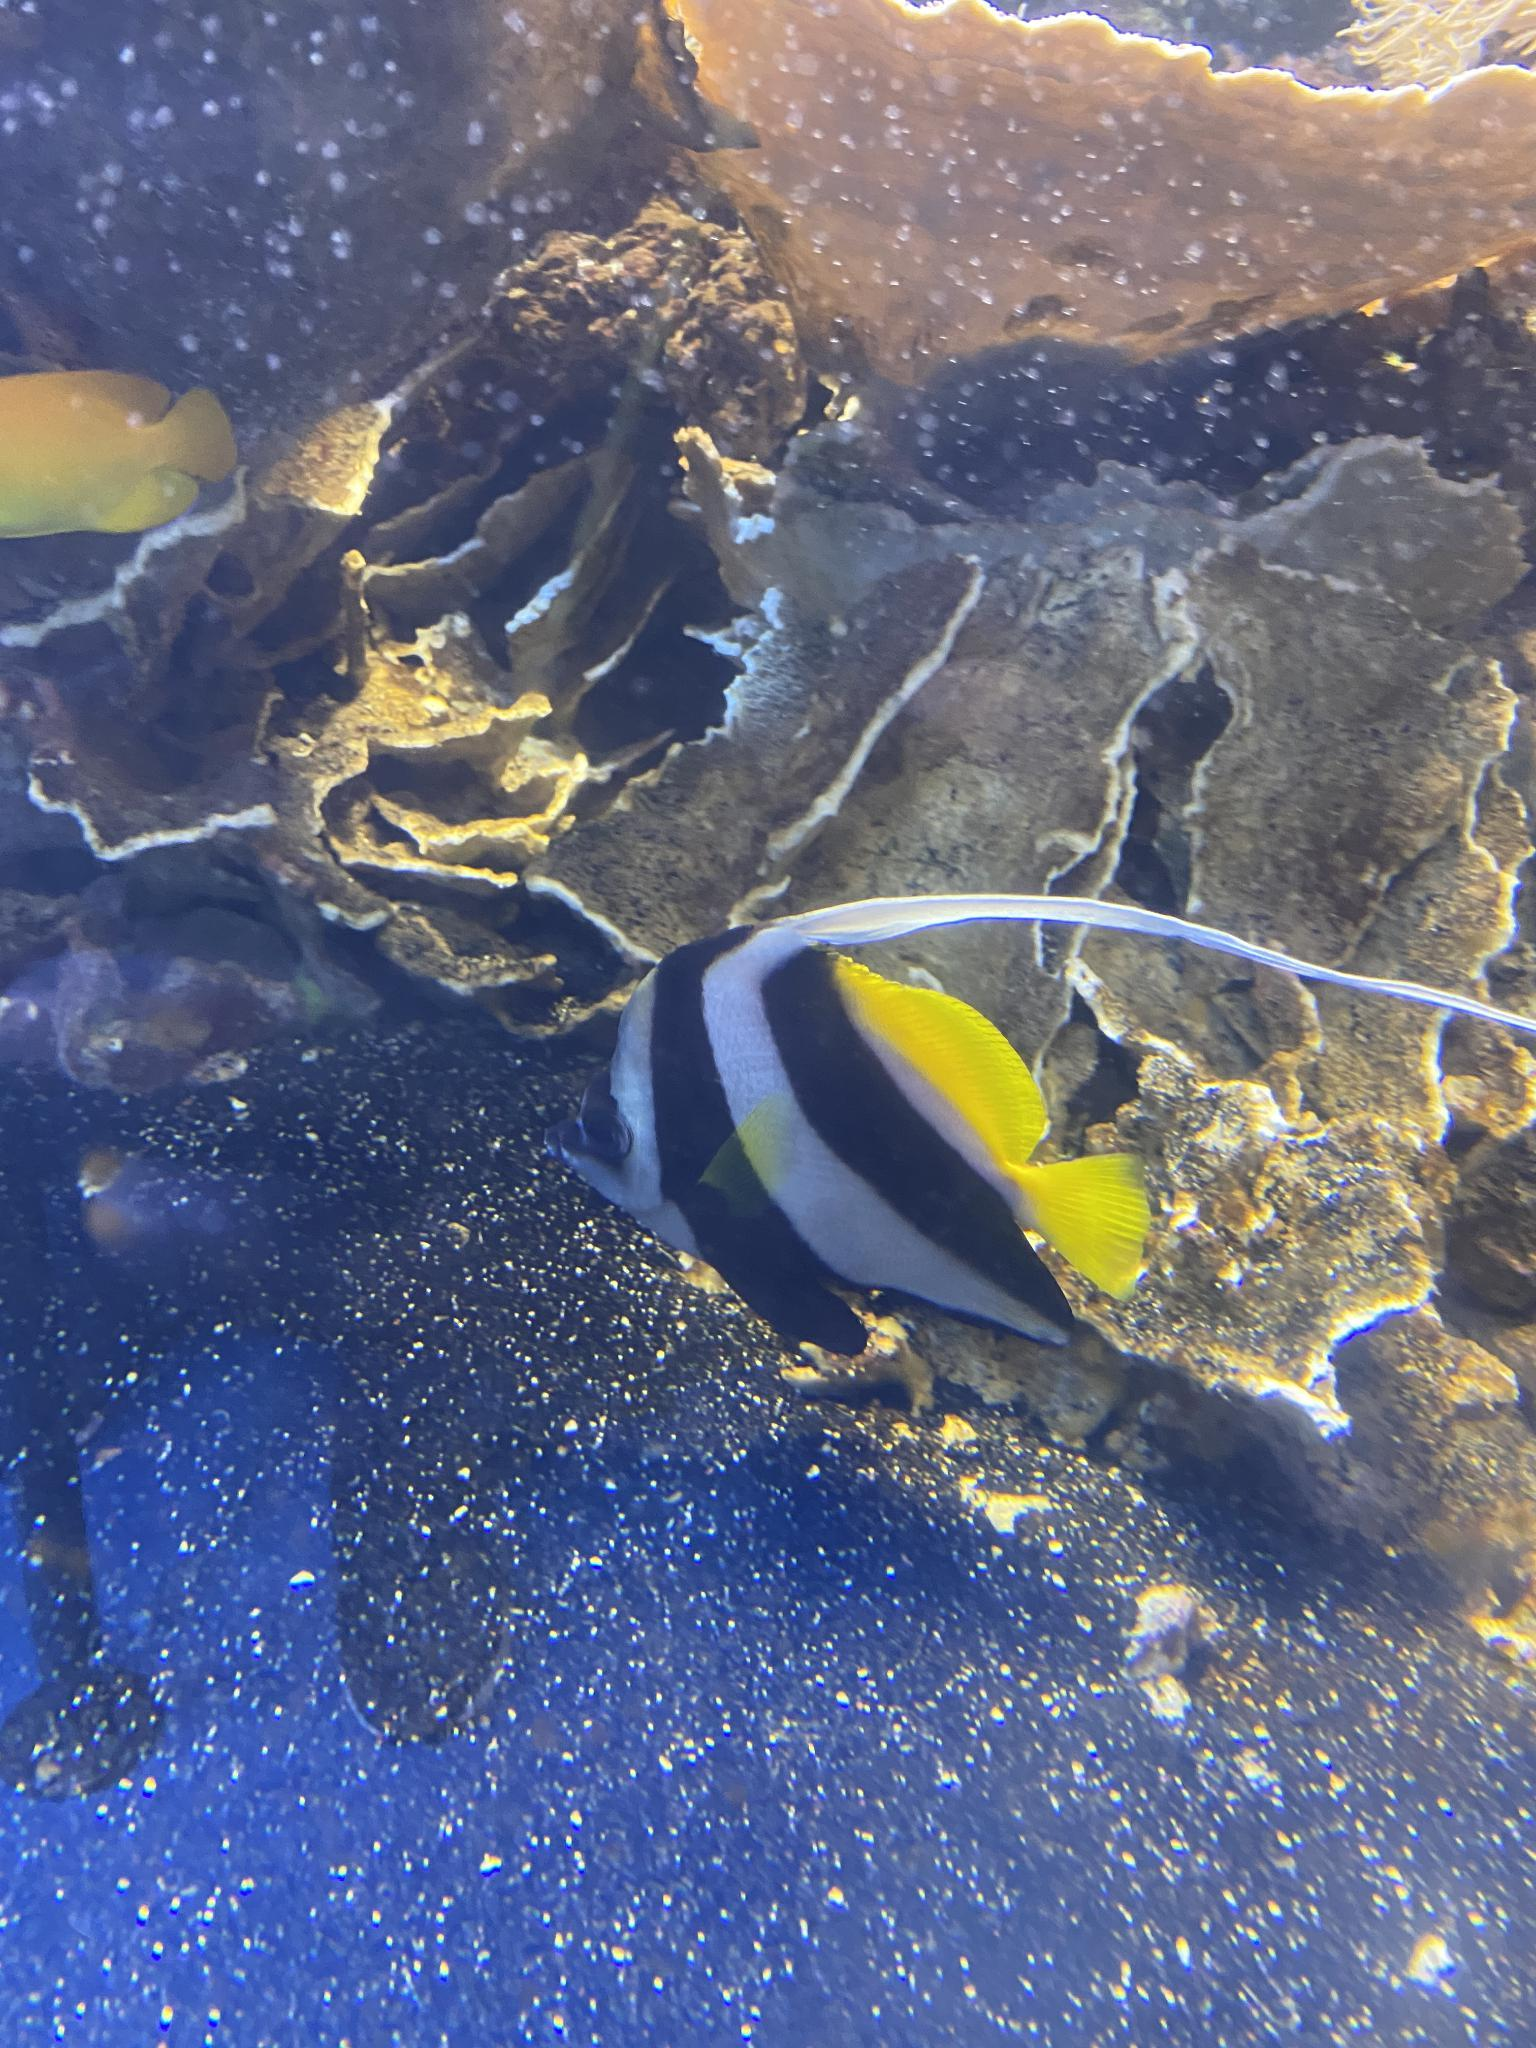fish: (557, 918, 1154, 1355)
